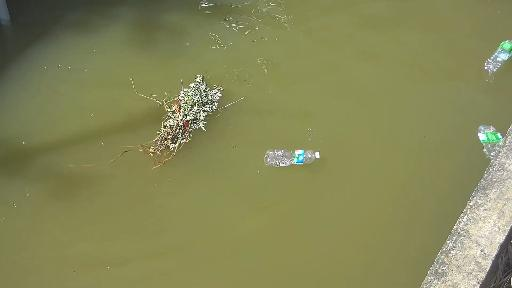plastic: (478, 30, 512, 80), (258, 150, 334, 170), (478, 119, 509, 165)
twig: (109, 64, 256, 178)
